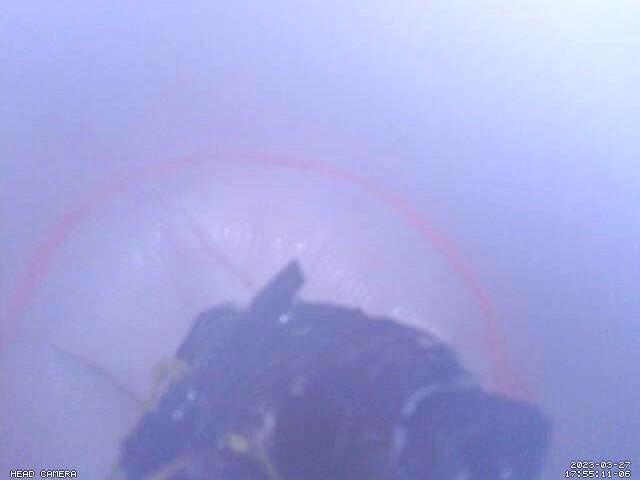head: (0, 148, 527, 402)
